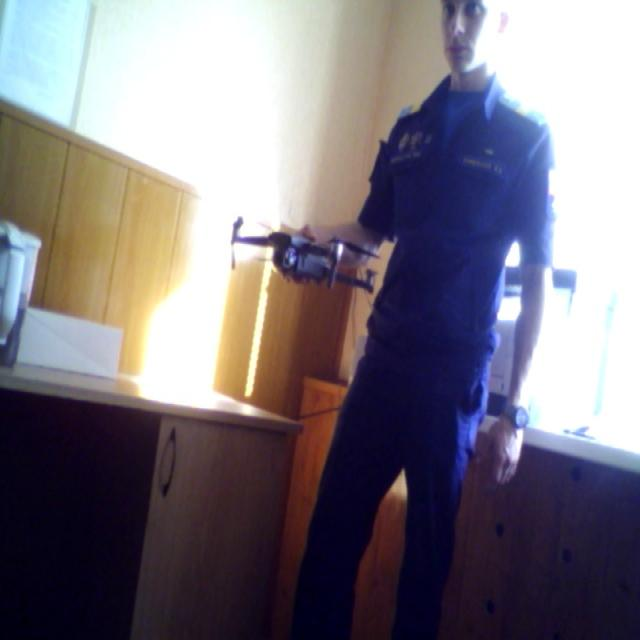drone: (225, 193, 386, 307)
